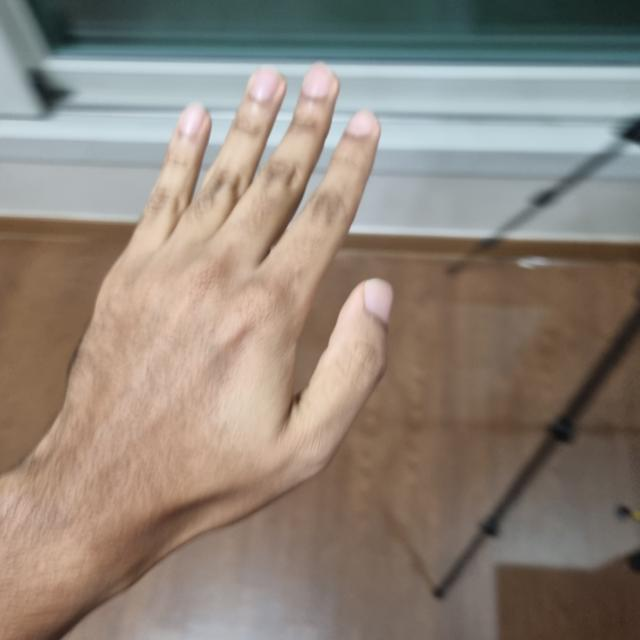Paper: (57, 71, 387, 540)
